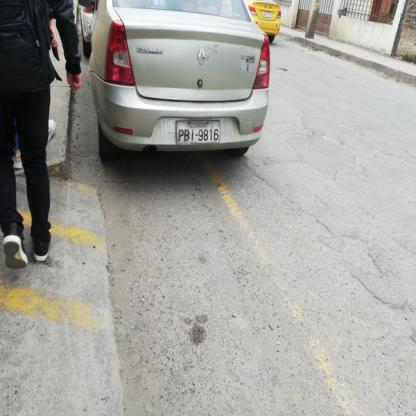Placa: (172, 116, 224, 146)
